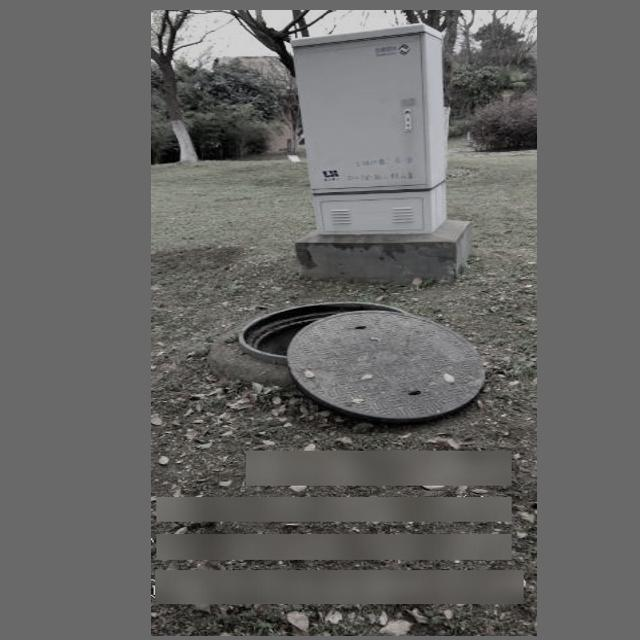uncovered: (237, 299, 485, 417)
